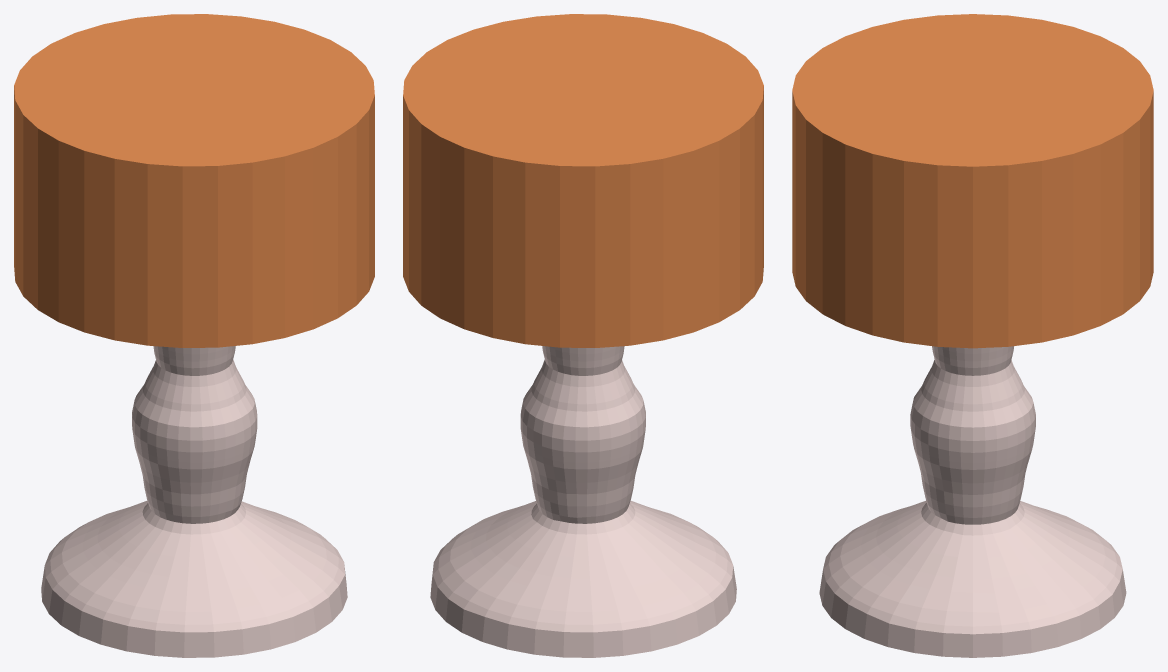
File: abajur1.fbx
The picture shows the model from 3 angles, left to right: view 1: azimuth 30°, elevation 25°; view 2: azimuth 150°, elevation 25°; view 3: azimuth 270°, elevation 25°; orthographic projection.
Visible parts, largest first — view 1: Cylinder; view 2: Cylinder; view 3: Cylinder.
Boxes of the visible parts, bbox=[...] form: Cylinder: bbox=[14, 14, 374, 657]; Cylinder: bbox=[403, 14, 763, 657]; Cylinder: bbox=[792, 14, 1153, 657].
Bounding box in the file's own units: 95.87 × 147 × 95.87.
